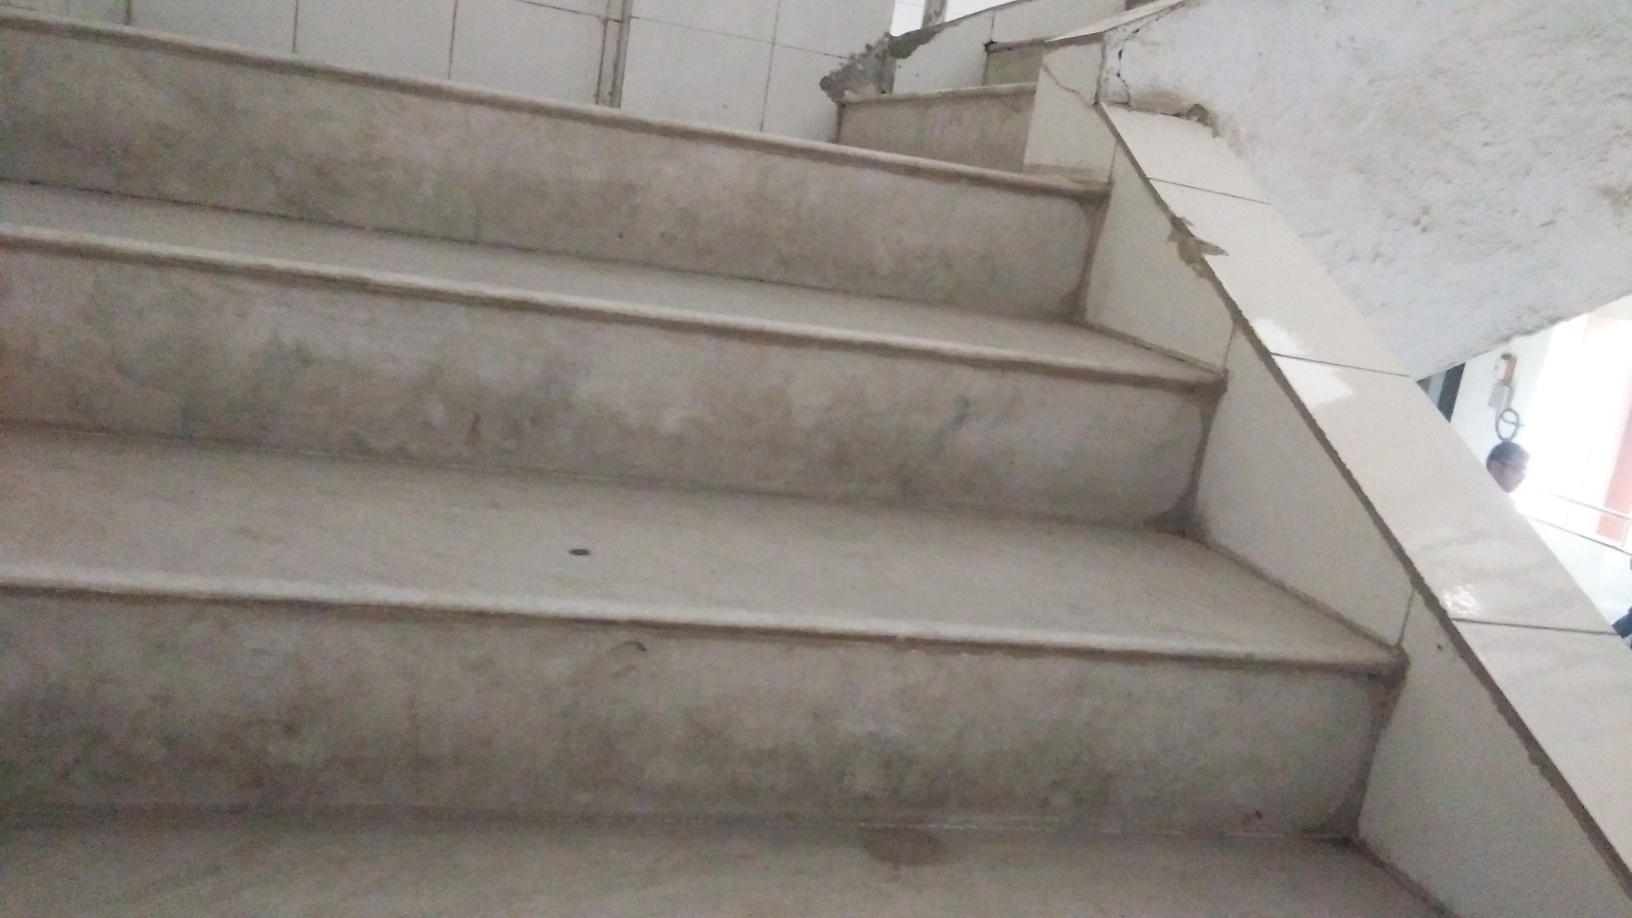stairs_up: (1, 8, 1538, 918)
